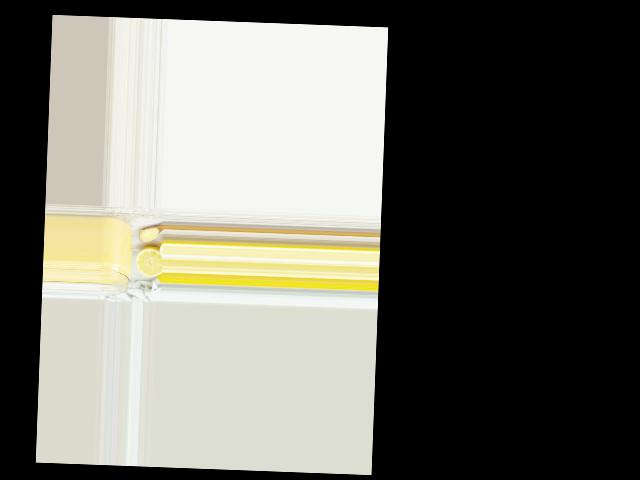lemon: (135, 246, 161, 278)
